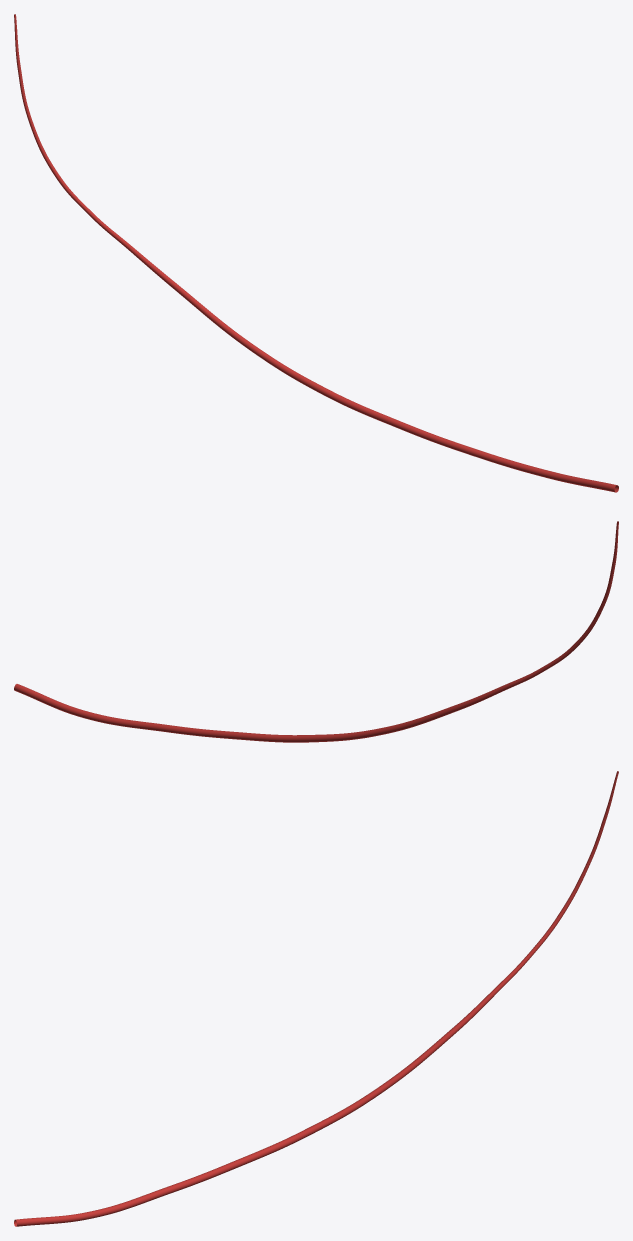
3 renders of one model, top to bottom at view 1: azimuth 30°, elevation 25°; view 2: azimuth 210°, elevation 25°; view 3: azimuth 270°, elevation 25°, orthographic. The views are drawn at different scales.
Parts seen in each view (by area): view 1: 右侧肌膈动脉; view 2: 右侧肌膈动脉; view 3: 右侧肌膈动脉.
Part boxes in pixels (x1,y1,x2,y2): 右侧肌膈动脉: (14,14,618,492); 右侧肌膈动脉: (14,521,618,742); 右侧肌膈动脉: (14,771,618,1226).
Size of the model in its own units: 0.1469 by 0.1545 by 0.2632.
